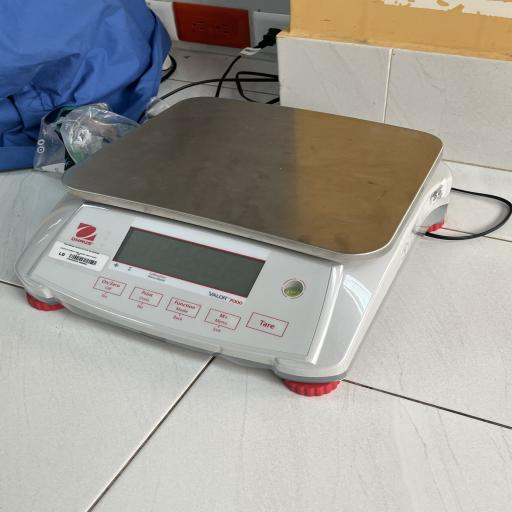Balanza_Granataria_Ohaus: (10, 93, 468, 405)
